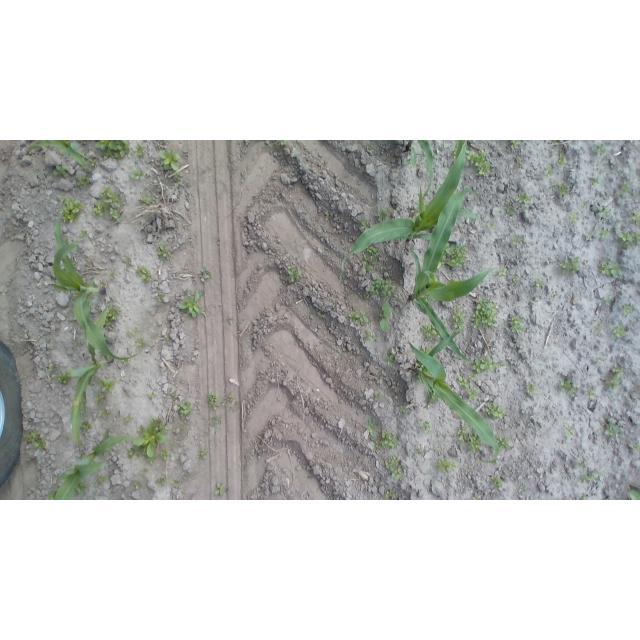Maize: (340, 141, 483, 283), (409, 186, 495, 364), (48, 209, 140, 360), (407, 331, 499, 463), (57, 306, 116, 445), (55, 429, 136, 500), (27, 141, 96, 173), (406, 140, 434, 196)
Weeds: (134, 418, 167, 464), (470, 297, 503, 331), (92, 186, 122, 221), (178, 289, 205, 318), (95, 140, 132, 161), (61, 193, 84, 224), (466, 147, 491, 175), (599, 364, 624, 391), (445, 242, 467, 269), (554, 255, 582, 276), (615, 225, 640, 248), (374, 429, 400, 451), (472, 358, 507, 374), (159, 149, 182, 172), (370, 277, 394, 297), (385, 453, 403, 479), (363, 417, 381, 443), (596, 260, 620, 278), (26, 431, 47, 451), (362, 246, 378, 272), (486, 400, 506, 420), (550, 182, 570, 200), (453, 307, 468, 330), (610, 324, 629, 341), (508, 313, 525, 332), (136, 265, 153, 284), (436, 458, 457, 473), (348, 311, 369, 326), (559, 379, 576, 397), (581, 468, 600, 484), (380, 301, 390, 331), (129, 166, 148, 181), (604, 421, 621, 437), (417, 417, 432, 435), (467, 434, 481, 453), (420, 325, 436, 341), (157, 244, 172, 261), (287, 263, 301, 281), (457, 424, 471, 441), (53, 164, 70, 178), (179, 402, 194, 417), (457, 374, 471, 390), (107, 307, 121, 322), (101, 378, 115, 393), (206, 393, 220, 408), (222, 392, 235, 408), (515, 192, 533, 203), (497, 436, 511, 450), (375, 206, 389, 220), (356, 215, 370, 229), (593, 144, 608, 157), (97, 473, 110, 487), (621, 302, 635, 315), (555, 153, 568, 167), (196, 448, 208, 463), (134, 142, 146, 157), (491, 473, 502, 489), (75, 176, 91, 187), (201, 265, 212, 281), (598, 206, 611, 219), (597, 226, 611, 238), (507, 234, 521, 246), (215, 483, 226, 498), (569, 209, 580, 224), (524, 382, 536, 395), (626, 489, 640, 500), (631, 209, 640, 226), (627, 440, 640, 451), (565, 425, 576, 438), (585, 389, 598, 400), (125, 327, 138, 338), (77, 482, 88, 494), (136, 338, 147, 350), (95, 394, 106, 406), (99, 407, 110, 419), (58, 373, 70, 384), (161, 448, 171, 461), (154, 477, 167, 487), (140, 195, 153, 205), (127, 448, 138, 459), (365, 330, 376, 341), (468, 388, 478, 400), (498, 267, 510, 277), (505, 202, 515, 214), (124, 412, 134, 424), (593, 323, 603, 334), (620, 184, 631, 194), (544, 164, 553, 176), (485, 221, 497, 230), (385, 488, 395, 498), (385, 355, 395, 365), (533, 279, 543, 289), (48, 487, 56, 499), (511, 276, 523, 284), (212, 416, 221, 426), (172, 480, 181, 489), (132, 481, 141, 490), (469, 373, 478, 382), (75, 338, 84, 347), (414, 445, 422, 455), (83, 421, 91, 431), (105, 319, 112, 330), (578, 460, 586, 469), (603, 295, 612, 303), (592, 176, 600, 185), (511, 140, 520, 148), (316, 311, 324, 320), (158, 294, 166, 303), (47, 364, 55, 373), (472, 493, 482, 500), (93, 379, 103, 386), (227, 315, 234, 325), (399, 406, 407, 414), (374, 392, 382, 400), (411, 206, 419, 214), (91, 160, 99, 168), (597, 358, 604, 367), (582, 200, 591, 207), (515, 156, 522, 165), (421, 348, 431, 354), (582, 492, 589, 500), (326, 213, 333, 221), (80, 230, 88, 237), (124, 258, 132, 265), (99, 279, 106, 287), (232, 404, 239, 412), (519, 487, 528, 493), (63, 235, 69, 244), (182, 473, 189, 480), (141, 469, 148, 476), (603, 413, 610, 420), (584, 233, 591, 240), (423, 294, 430, 301), (175, 174, 182, 181), (171, 390, 178, 397), (406, 158, 412, 166), (377, 370, 383, 378), (280, 140, 288, 146), (122, 359, 129, 365), (180, 379, 187, 385), (363, 294, 371, 299), (335, 354, 340, 362), (80, 451, 86, 457), (550, 293, 556, 299), (600, 169, 607, 174), (366, 145, 373, 150), (165, 333, 170, 340), (73, 291, 78, 298), (551, 140, 557, 145), (438, 444, 442, 451), (80, 140, 85, 145), (75, 240, 80, 245), (141, 299, 146, 304), (110, 272, 114, 278), (149, 392, 155, 396), (27, 233, 30, 238), (359, 457, 362, 461), (559, 141, 562, 144)
